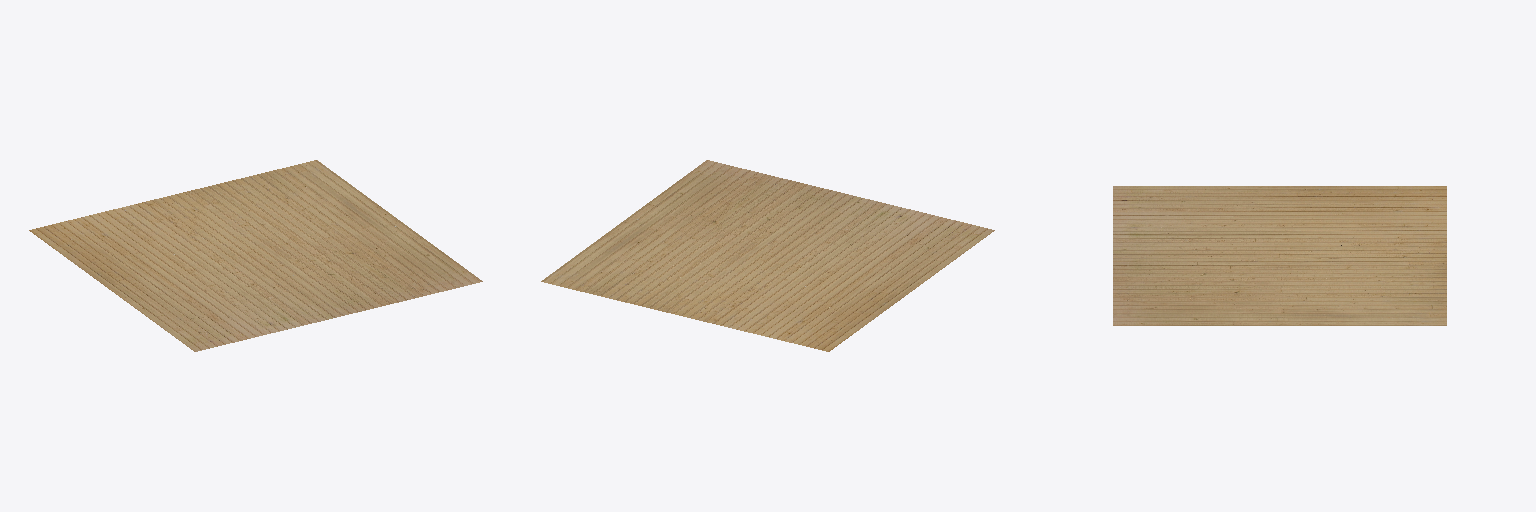
3 renders of one model, left to right at view 1: azimuth 30°, elevation 25°; view 2: azimuth 150°, elevation 25°; view 3: azimuth 270°, elevation 25°, orthographic.
Visible parts, largest first — view 1: Plane; view 2: Plane; view 3: Plane.
Part boxes in pixels (x1,y1,x2,y2): Plane: (29,160,482,351); Plane: (541,160,994,351); Plane: (1113,186,1446,325).
Size of the model in its own units: 6 by 0 by 6.
Materials: 1 (1 with a texture image).